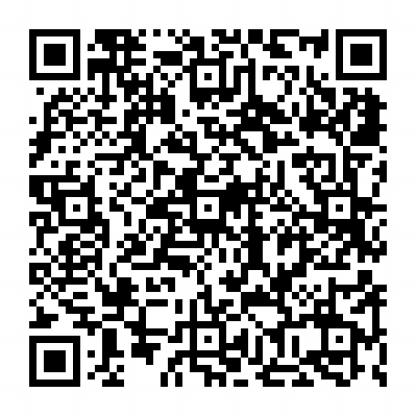qr: (27, 27, 392, 391)
